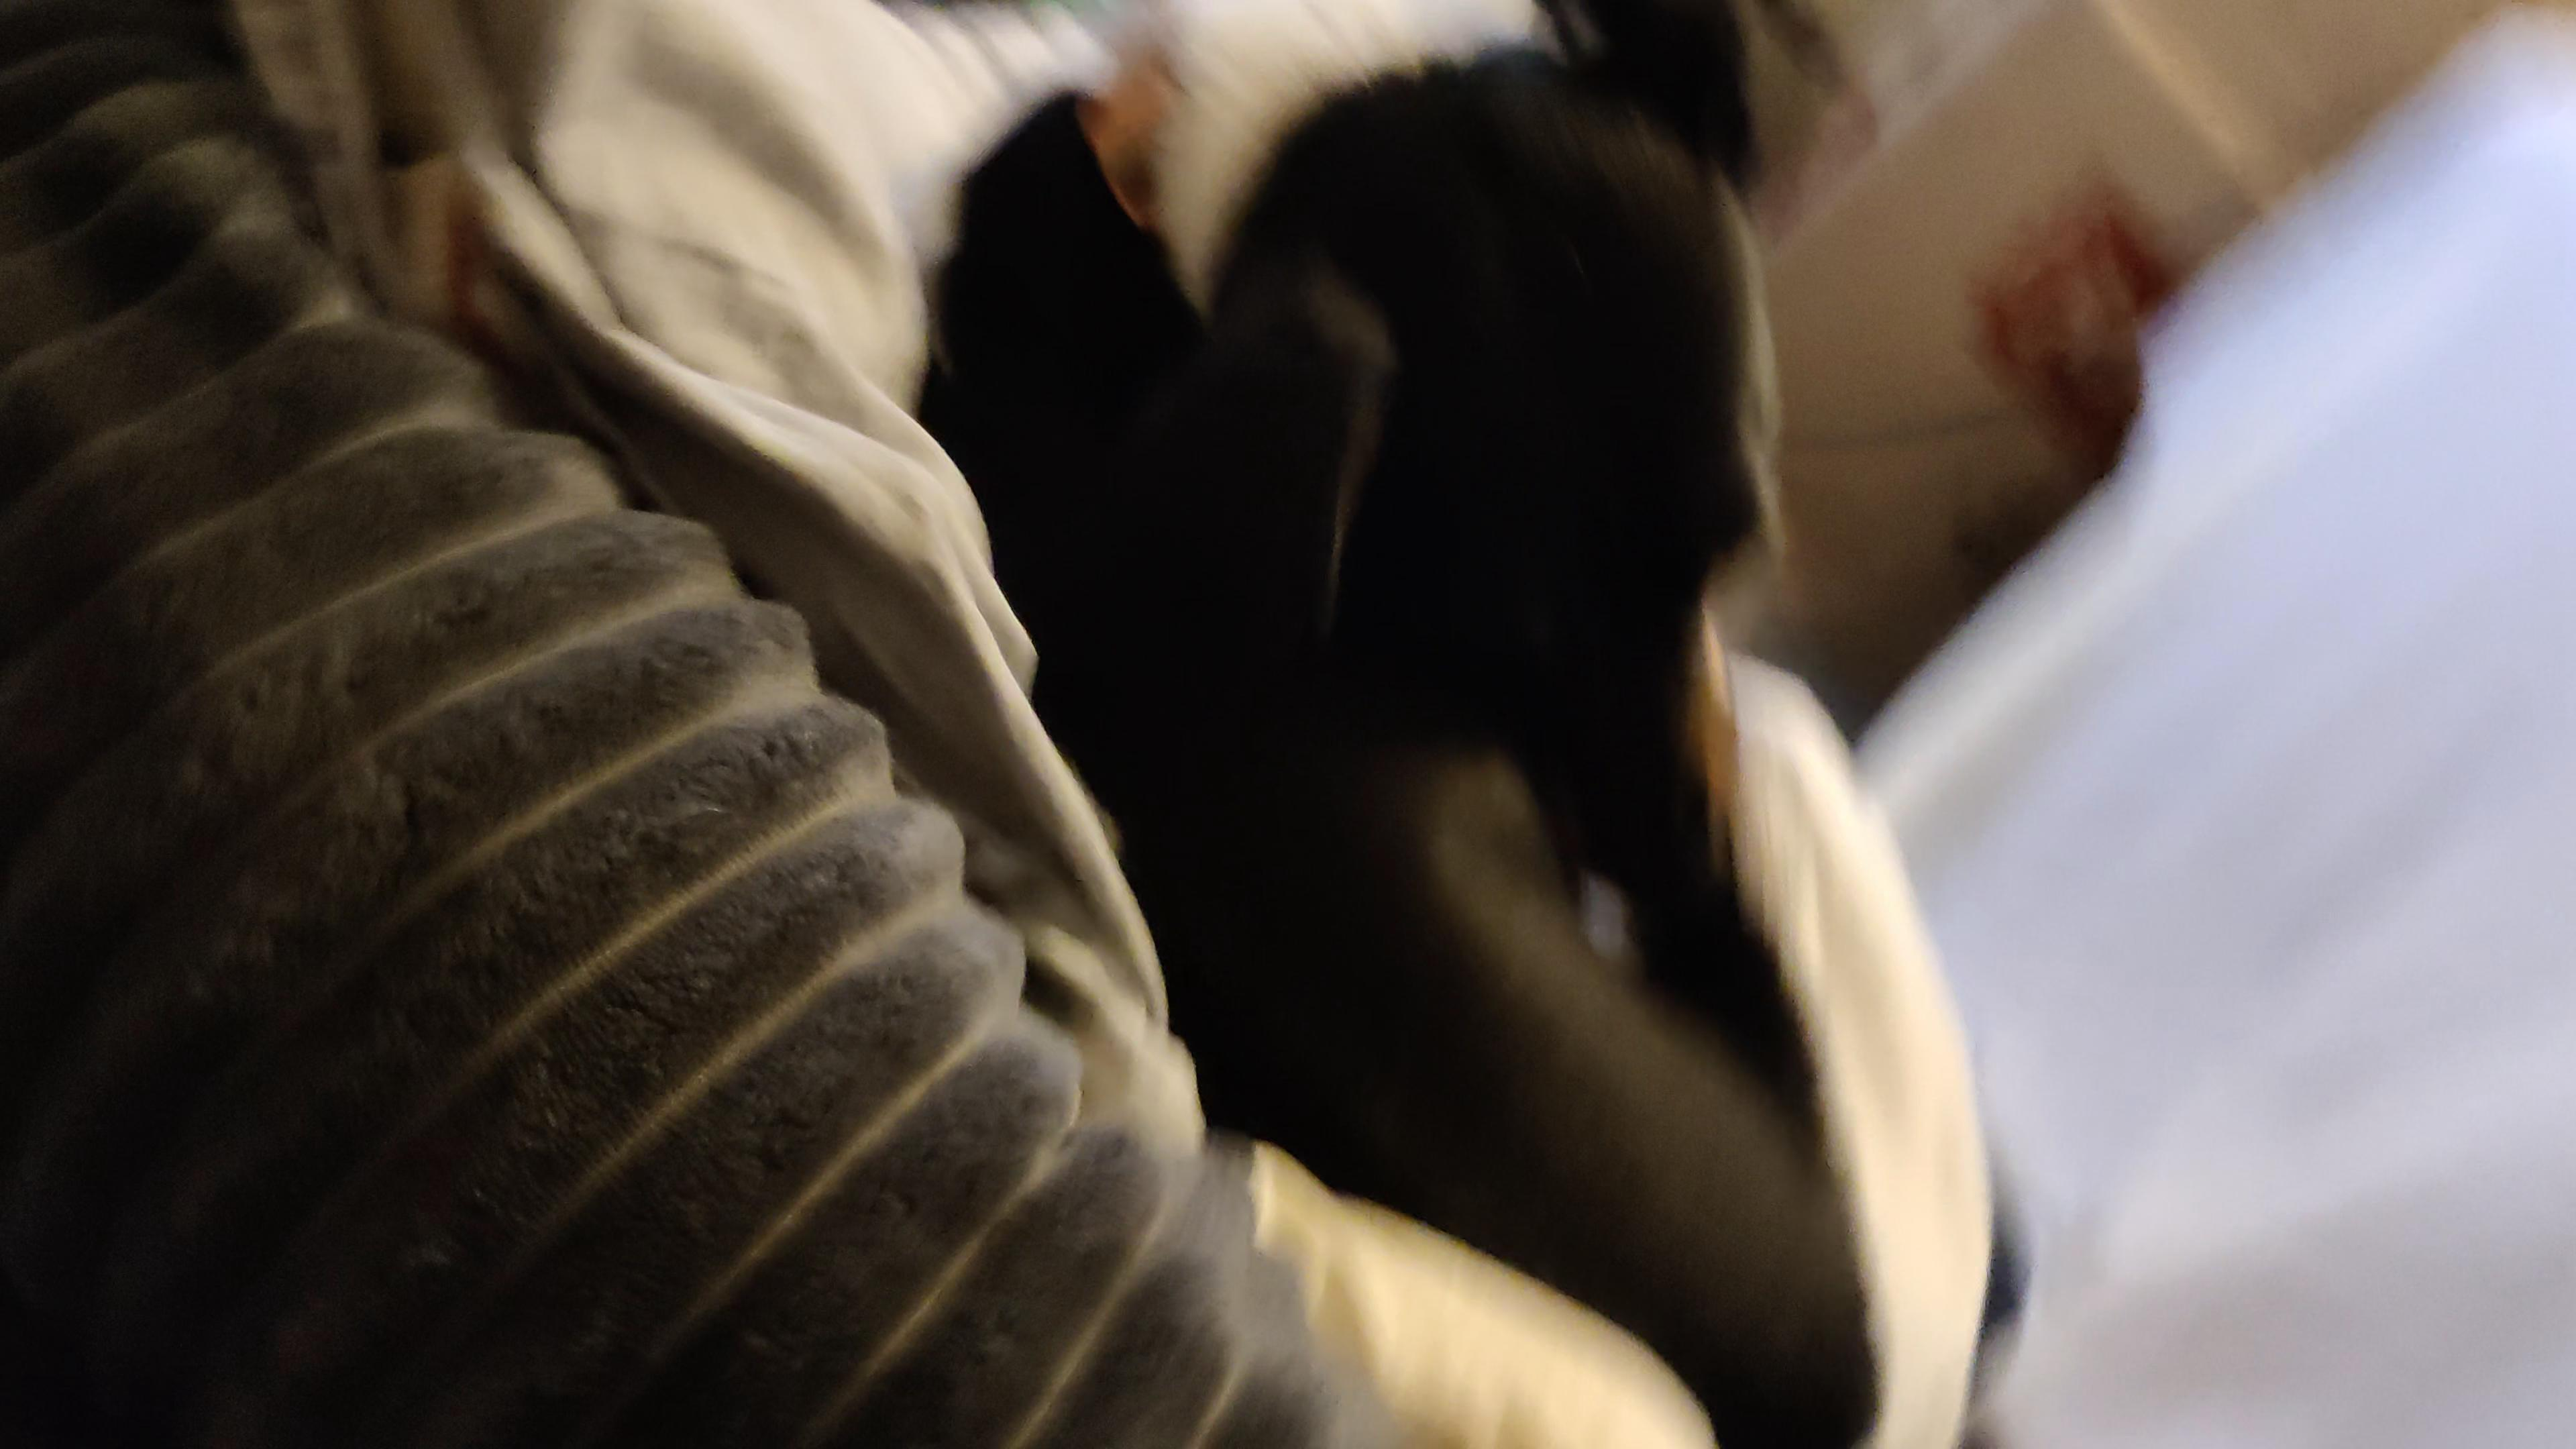Dog: (844, 0, 2066, 1449)
